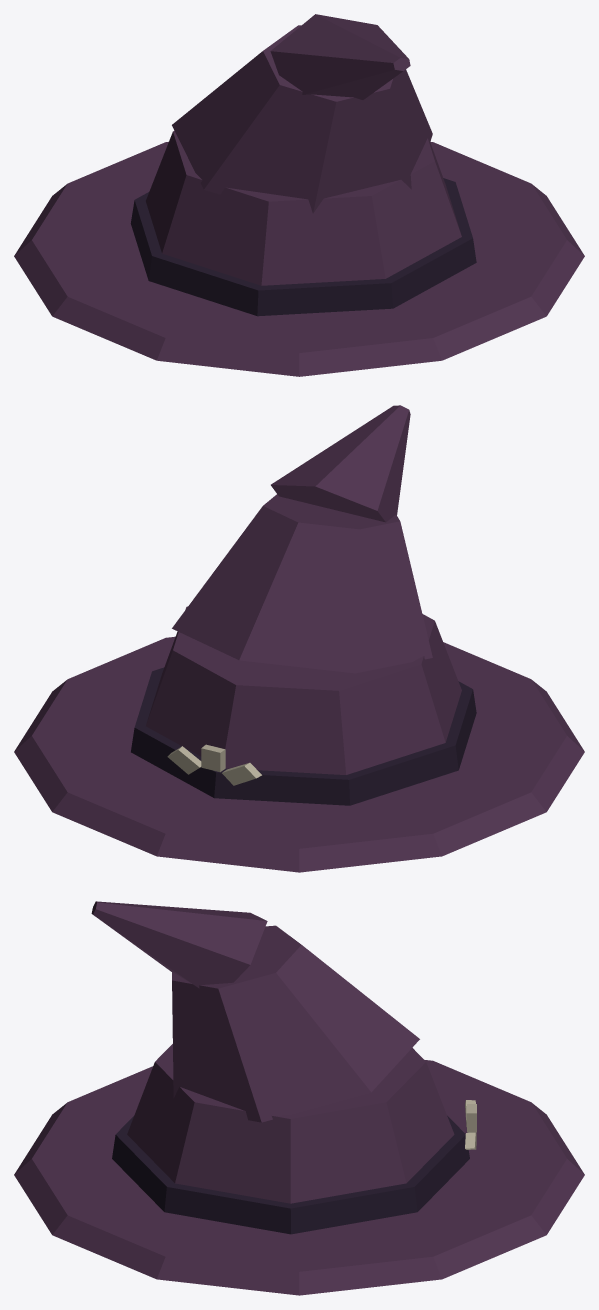
The model's file is hat_medium.glb.
The picture shows the model from 3 angles, top to bottom: view 1: azimuth 30°, elevation 25°; view 2: azimuth 150°, elevation 25°; view 3: azimuth 270°, elevation 25°; orthographic projection.
Visible parts, largest first — view 1: Hat; view 2: Hat; view 3: Hat.
Boxes of the visible parts, box(x1,y1,x2,y2) form: Hat: box(14, 14, 584, 376); Hat: box(14, 405, 584, 872); Hat: box(14, 901, 584, 1295).
Bounding box in the file's own units: 0.64 × 0.337 × 0.64.
